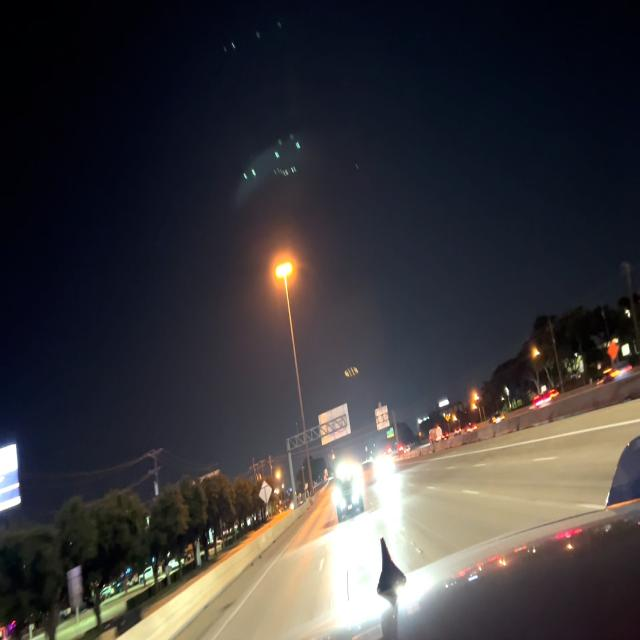back-of-sign: (319, 405, 351, 448)
